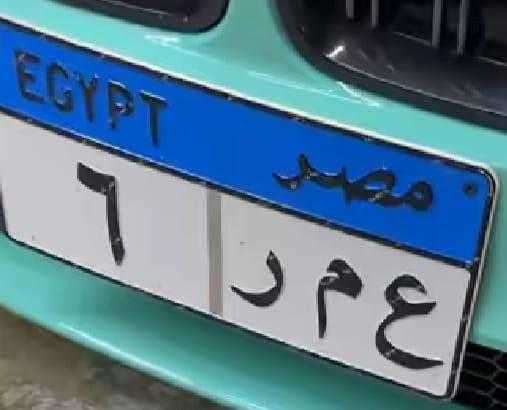6: (66, 149, 129, 270)
ain: (371, 264, 447, 379)
meem: (306, 249, 366, 355)
raa: (219, 238, 289, 327)
